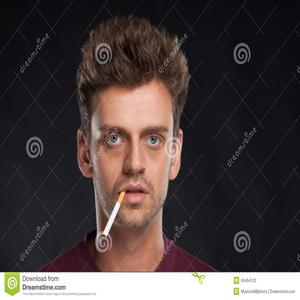cigarette: (103, 190, 125, 240)
